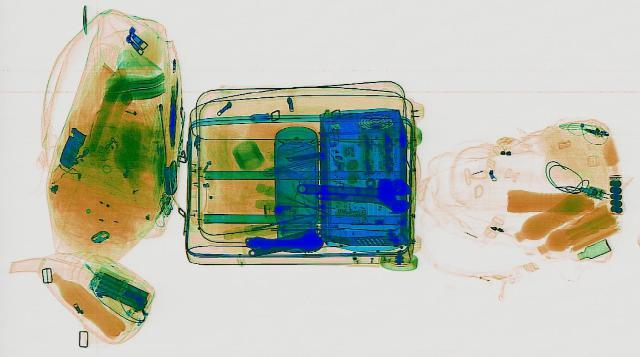Wrench: (293, 173, 411, 206)
